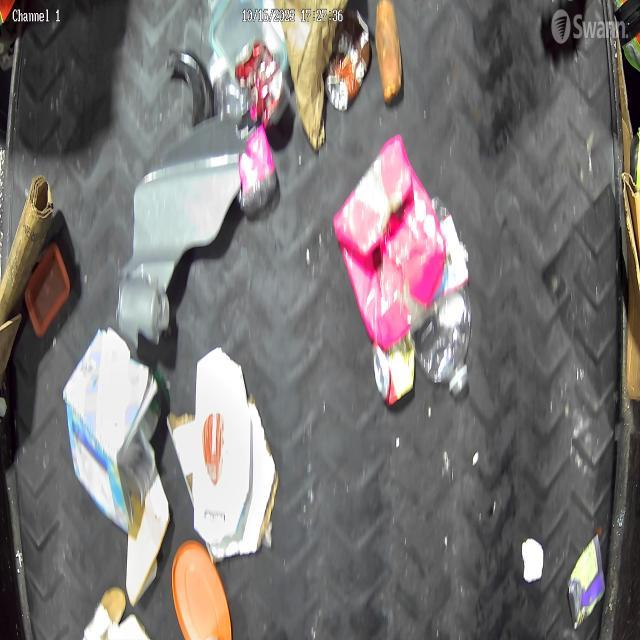can: (324, 0, 374, 112), (372, 322, 419, 414), (569, 534, 608, 630)
plastic_bottle: (208, 61, 280, 221), (420, 191, 474, 403)
